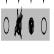correct: (28, 14, 34, 36)
not correct: (14, 5, 23, 42)
